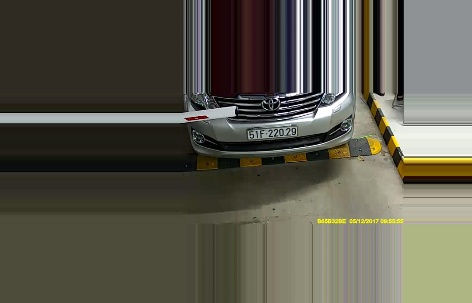plate: (247, 124, 298, 140)
